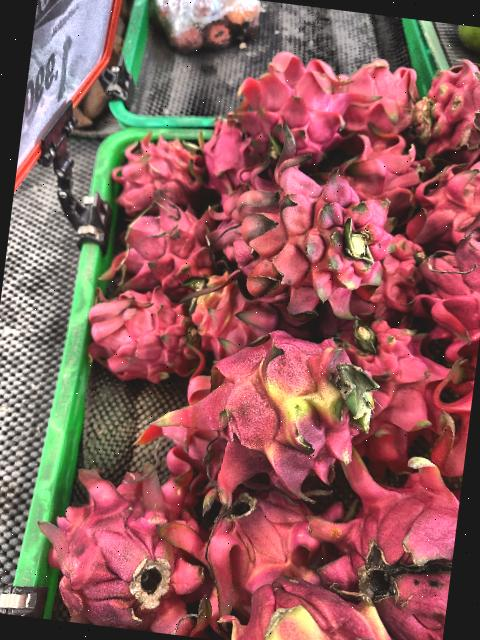buah-naga-belum-matang: (154, 312, 392, 526), (220, 576, 415, 640)
buah-naga-matang: (308, 439, 465, 638), (207, 140, 394, 306), (29, 479, 223, 636), (317, 302, 449, 470), (222, 40, 364, 170), (197, 476, 334, 601), (104, 191, 221, 301), (395, 218, 480, 364), (76, 285, 202, 377), (190, 270, 312, 360), (319, 130, 431, 212), (338, 52, 429, 152), (406, 42, 480, 162), (104, 136, 214, 214), (406, 141, 480, 249), (360, 227, 428, 332), (189, 116, 263, 194)
